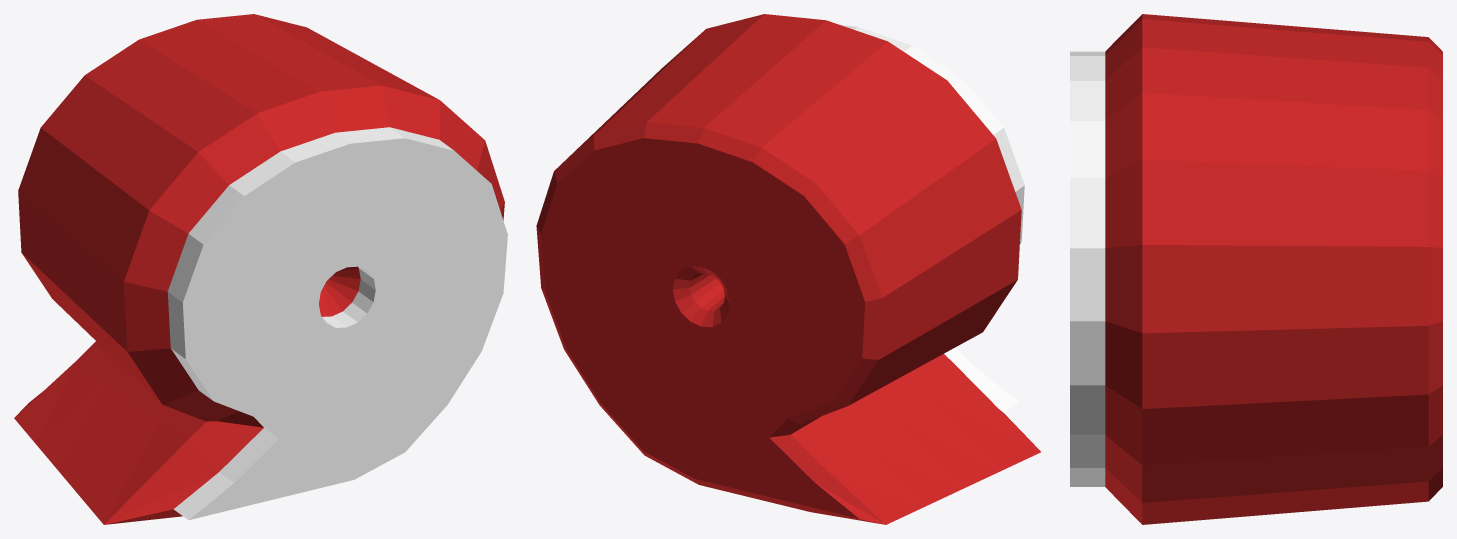
3 views of the same model, side by side, from view 1: azimuth 30°, elevation 25°; view 2: azimuth 150°, elevation 25°; view 3: azimuth 270°, elevation 25° (orthographic). The views are drawn at different scales.
Parts seen in each view (by area): view 1: MoText_1; view 2: MoText_1; view 3: MoText_1.
Part boxes in pixels (x1=…): MoText_1: x1=14, y1=14, x2=507, y2=524; MoText_1: x1=536, y1=14, x2=1040, y2=524; MoText_1: x1=1070, y1=14, x2=1442, y2=524.
Size of the model in its own units: 188 by 177 by 130.
